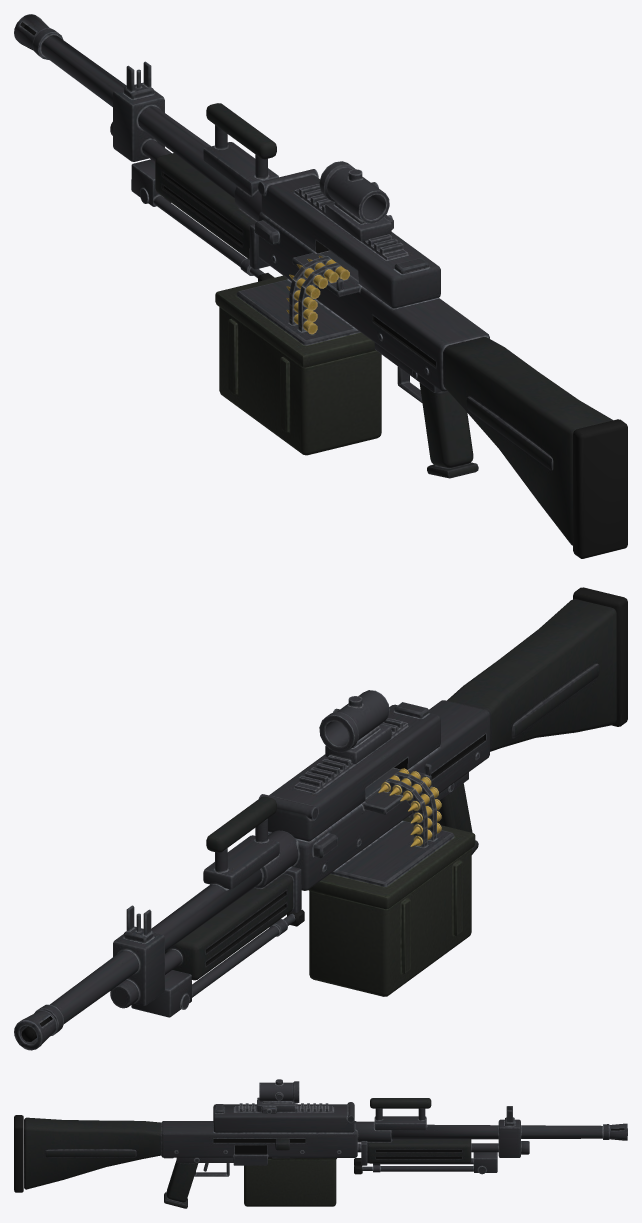
File: lmg.glb
3 views of the same model, one above another, from view 1: azimuth 30°, elevation 25°; view 2: azimuth 150°, elevation 25°; view 3: azimuth 270°, elevation 25° (orthographic). The views are drawn at different scales.
Parts seen in each view (by area): view 1: Lmg; view 2: Lmg; view 3: Lmg.
Boxes of the visible parts, x1=… form: Lmg: x1=14, y1=14, x2=627, y2=558; Lmg: x1=14, y1=587, x2=627, y2=1050; Lmg: x1=14, y1=1079, x2=627, y2=1208.
Size of the model in its own units: 0.1385 by 0.2305 by 1.
1 material, 1 textured.
